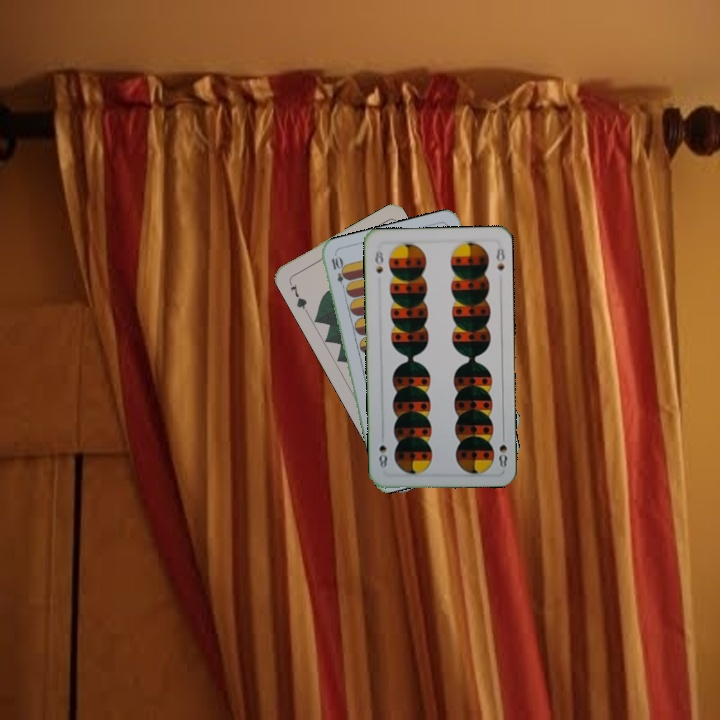E10: (327, 253, 349, 293)
G7: (285, 276, 310, 314)
S8: (495, 430, 510, 469), (370, 247, 386, 276)
